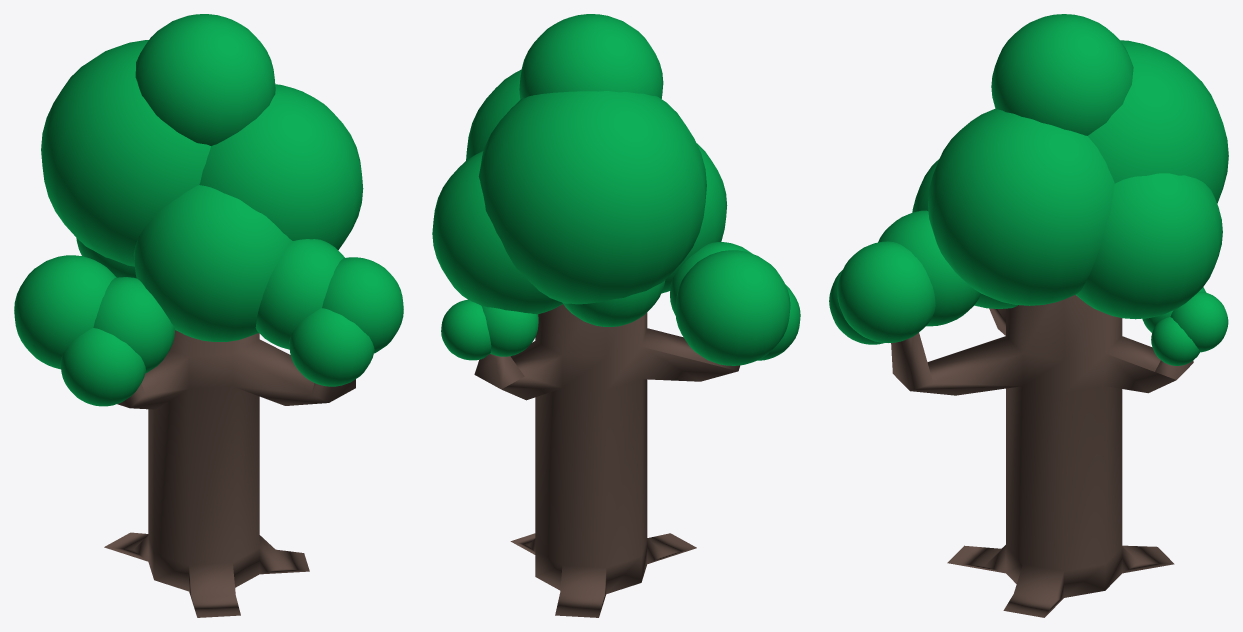
File: tree_pattern.fbx
3 views of the same model, side by side, from view 1: azimuth 30°, elevation 25°; view 2: azimuth 150°, elevation 25°; view 3: azimuth 270°, elevation 25° (orthographic).
Visible parts, largest first — view 1: pasted__pSphere16; view 2: pasted__pSphere16; view 3: pasted__pSphere16.
Part boxes in pixels (<box>): pasted__pSphere16: <box>14,14,403,617</box>; pasted__pSphere16: <box>432,14,800,617</box>; pasted__pSphere16: <box>829,14,1228,617</box>.
Bounding box in the file's own units: 12.65 × 20.96 × 13.74.
